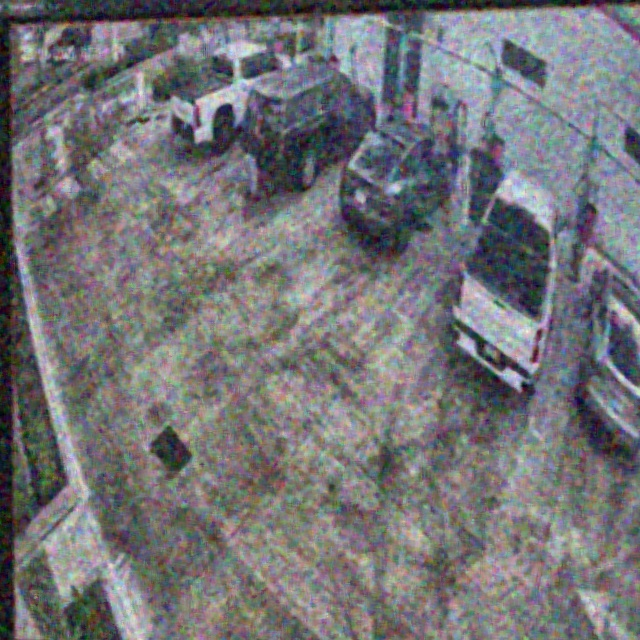Car: (449, 144, 561, 393), (243, 52, 377, 187), (344, 109, 452, 259)
